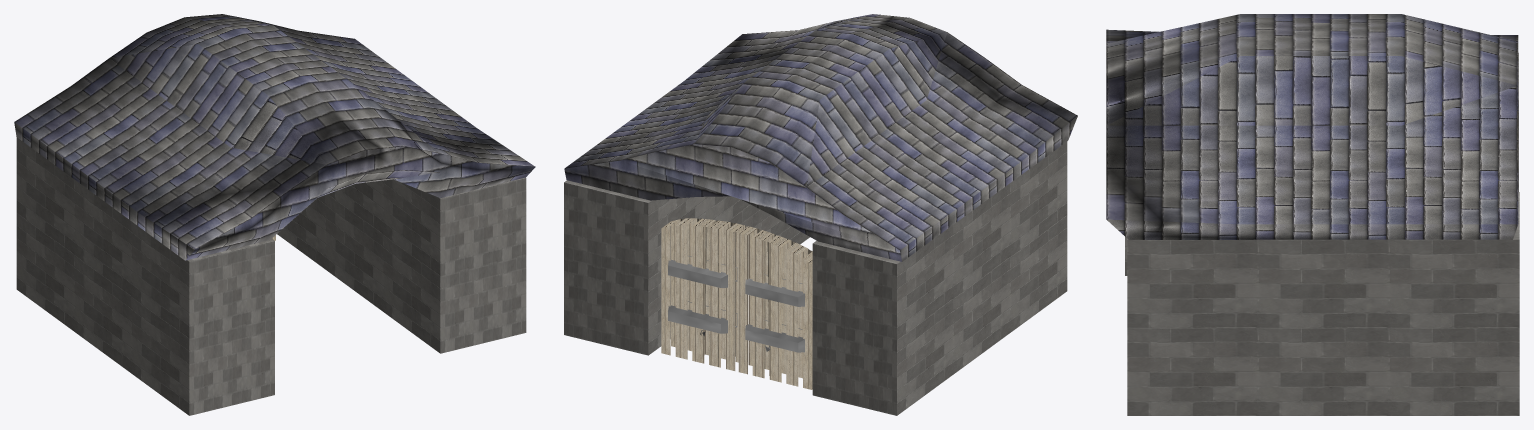
File: Gate.fbx
3 views of the same model, side by side, from view 1: azimuth 30°, elevation 25°; view 2: azimuth 150°, elevation 25°; view 3: azimuth 270°, elevation 25° (orthographic). The views are drawn at different scales.
Visible parts, largest first — view 1: wall_straight_gate_001_1, Cube__1_, Cube; view 2: wall_straight_gate_001_1, Cube__1_, Cube, wall_straight_gate_door_right, wall_straight_gate_door_left; view 3: wall_straight_gate_001_1, Cube.
Part boxes in pixels (box(x1,y1,x2,y2)): wall_straight_gate_001_1: box(14, 14, 535, 260); Cube__1_: box(16, 137, 274, 415); Cube: box(277, 177, 526, 353); wall_straight_gate_001_1: box(564, 14, 1077, 261); Cube__1_: box(812, 142, 1067, 415); Cube: box(564, 180, 809, 355); wall_straight_gate_door_right: box(661, 218, 745, 370); wall_straight_gate_door_left: box(738, 226, 812, 389); wall_straight_gate_001_1: box(1106, 14, 1518, 239); Cube: box(1127, 192, 1519, 415).
Size of the model in its own units: 280 by 202 by 258.
